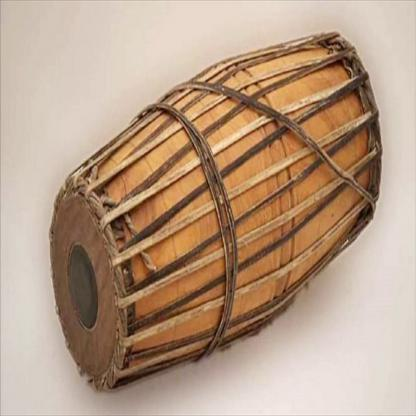Mridangam: (39, 107, 354, 396)
